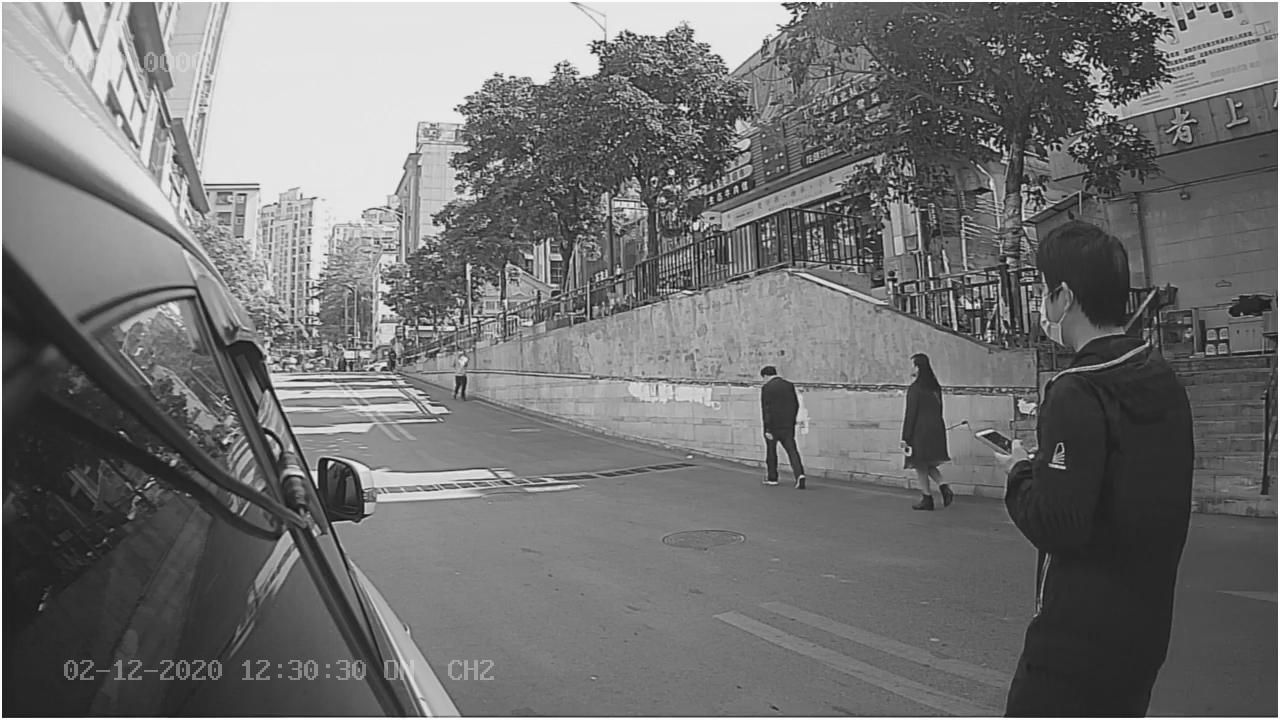person: (988, 219, 1198, 494)
